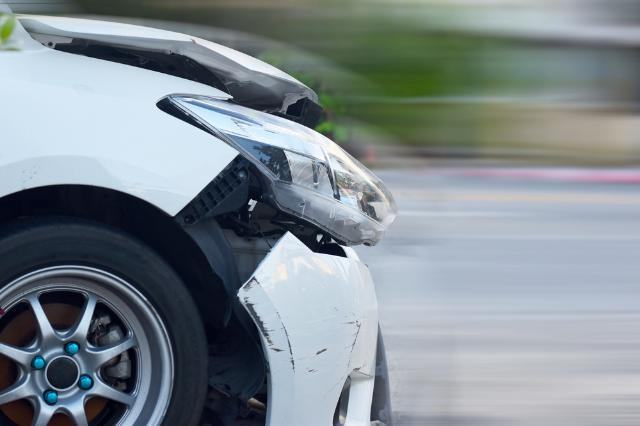dislocated part: (177, 153, 393, 426), (22, 19, 319, 131)
scratch: (243, 274, 368, 384)
